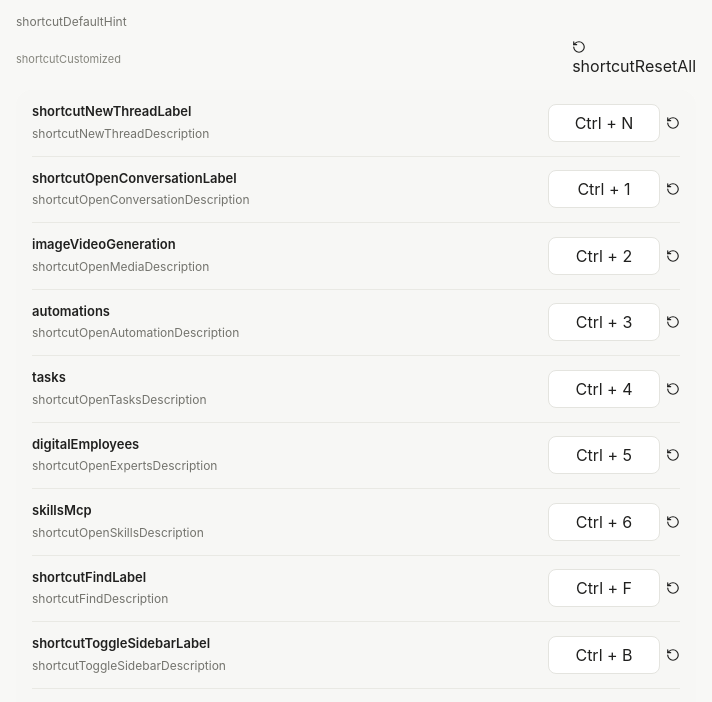
shortcut settings page › leaves recording on Escape without writing anything
The image size is (712, 702).
Click the button "Ctrl + N": click(604, 123) [548, 104, 660, 142]
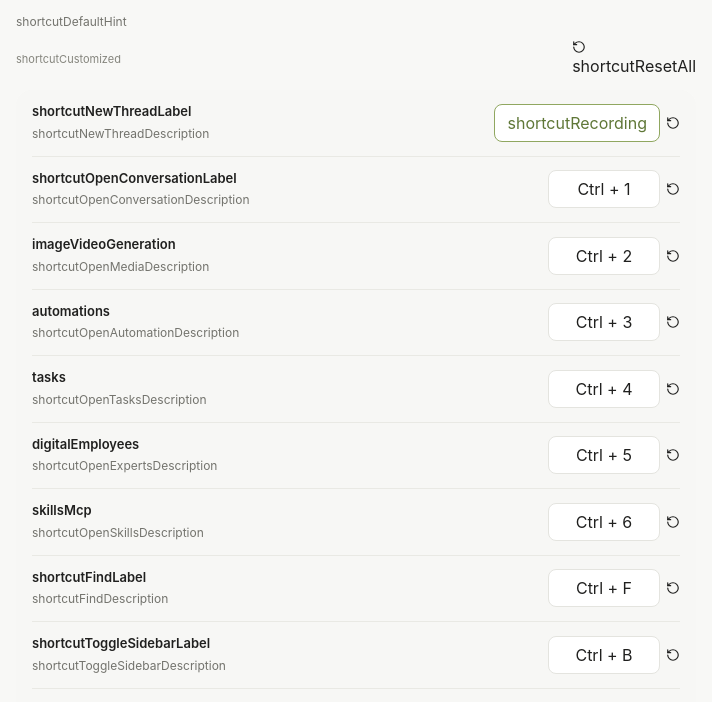
Press Escape in the button "shortcutRecording", box [494, 104, 660, 142]
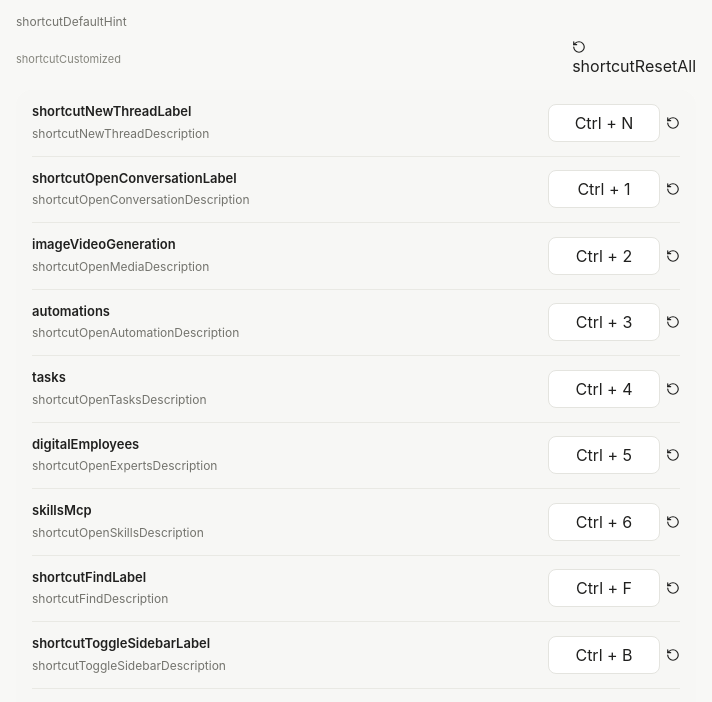
Result: the button "Ctrl + N" is shown at [548, 104, 660, 142]
